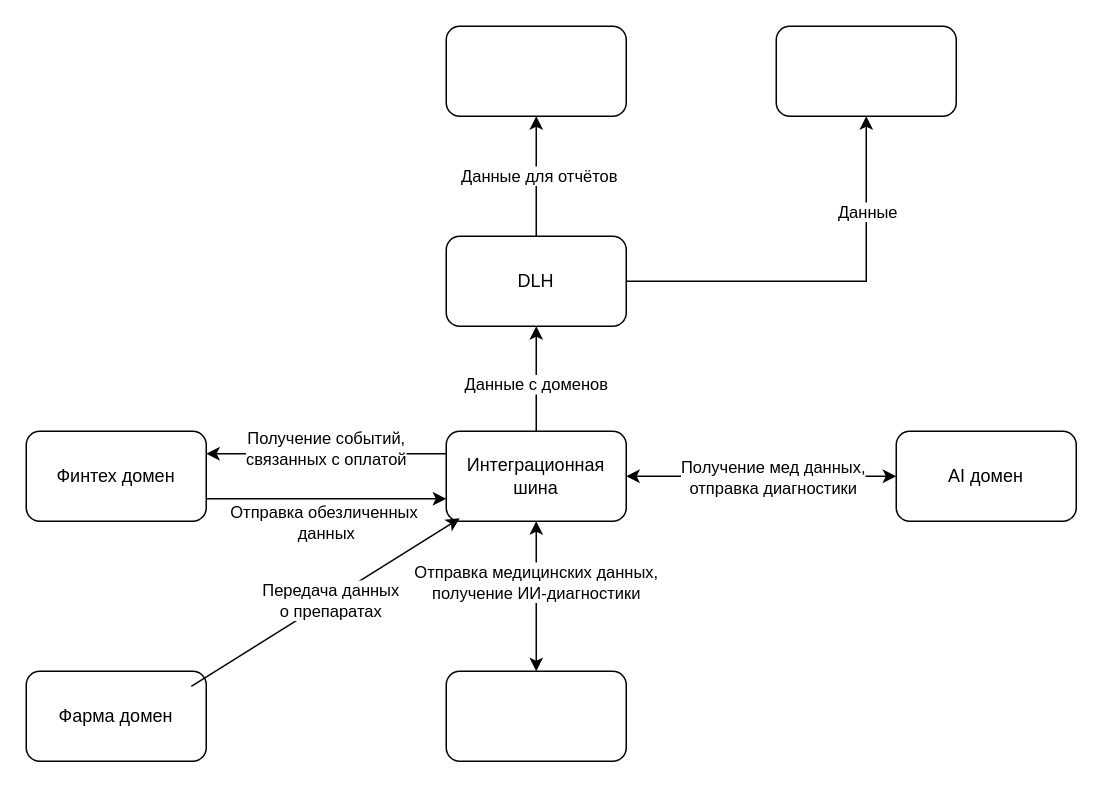
The diagram is 1103 pixels wide and 788 high, and some of its shapes have lost their labels. The centre of each missing label's shape, as x and y in pixels:
"Legacy BI" goes at point 865,70.
"Домен клиник" goes at point 535,715.
"Портал самообслуживания" goes at point 535,70.
